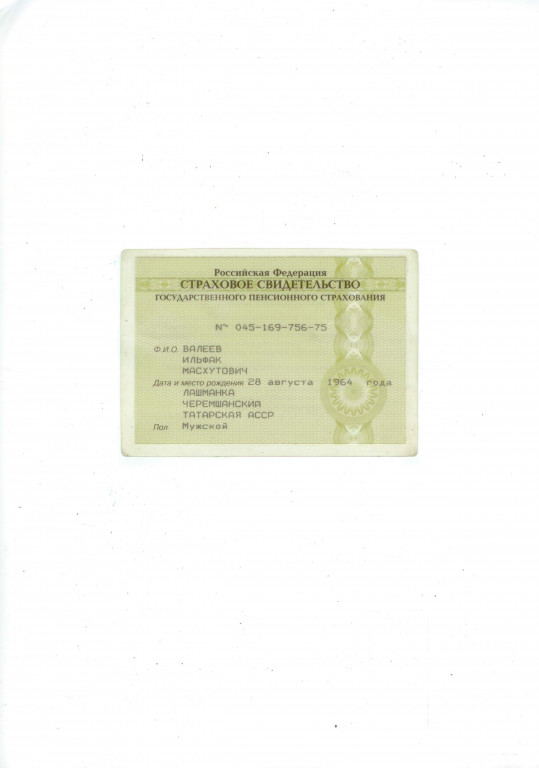text: (177, 387, 286, 419), (246, 375, 397, 389), (231, 319, 330, 333), (179, 364, 250, 377), (178, 420, 230, 431), (180, 343, 226, 354), (180, 354, 225, 365)
